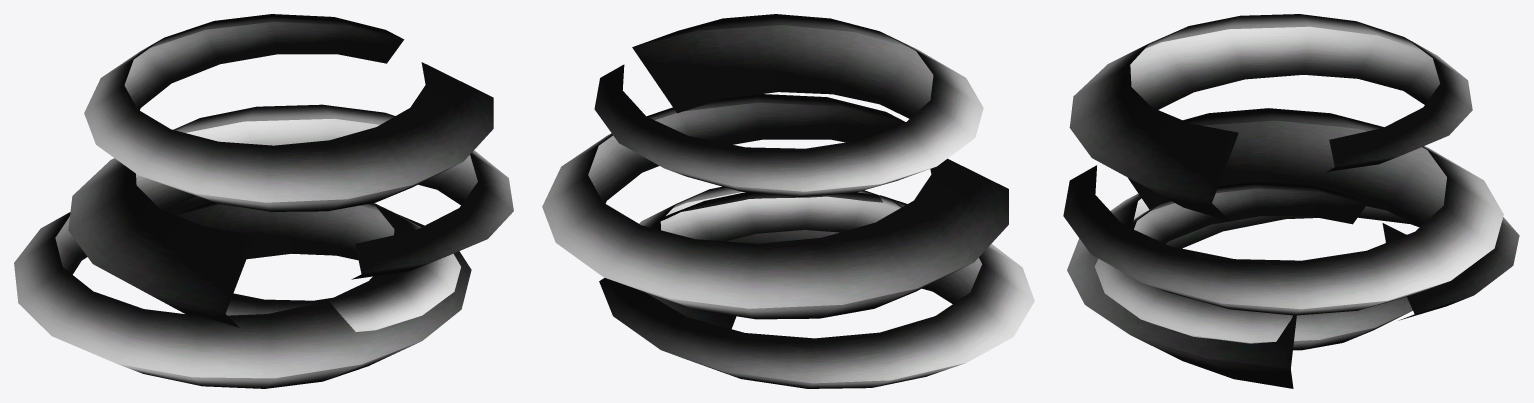
The model's file is vfx_kurp_0883.dae.
3 views of the same model, side by side, from view 1: azimuth 30°, elevation 25°; view 2: azimuth 150°, elevation 25°; view 3: azimuth 270°, elevation 25° (orthographic).
Parts seen in each view (by area): view 1: vfx_kurp_0883; view 2: vfx_kurp_0883; view 3: vfx_kurp_0883.
Boxes of the visible parts, x1=… form: vfx_kurp_0883: x1=14, y1=14, x2=513, y2=388; vfx_kurp_0883: x1=542, y1=14, x2=1034, y2=388; vfx_kurp_0883: x1=1063, y1=14, x2=1519, y2=388.
Bounding box in the file's own units: 9.65 × 8.61 × 5.44.
1 material, 1 textured.
